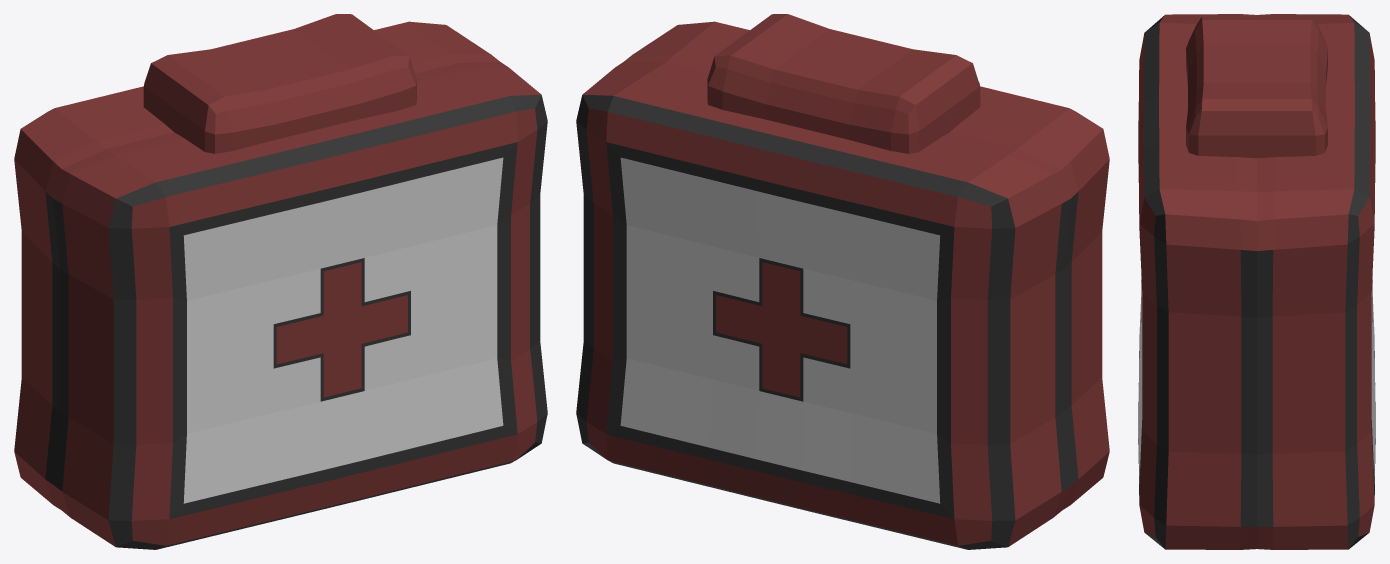
Rendered from FirstAidKit.glb.
The picture shows the model from 3 angles, left to right: view 1: azimuth 30°, elevation 25°; view 2: azimuth 150°, elevation 25°; view 3: azimuth 270°, elevation 25°; orthographic projection. The views are drawn at different scales.
Parts seen in each view (by area): view 1: FirstAidKit; view 2: FirstAidKit; view 3: FirstAidKit.
Boxes of the visible parts, x1=… form: FirstAidKit: x1=14, y1=14, x2=547, y2=549; FirstAidKit: x1=576, y1=14, x2=1109, y2=549; FirstAidKit: x1=1138, y1=14, x2=1375, y2=549.
Bounding box in the file's own units: 1.56 × 1.36 × 0.7333.
